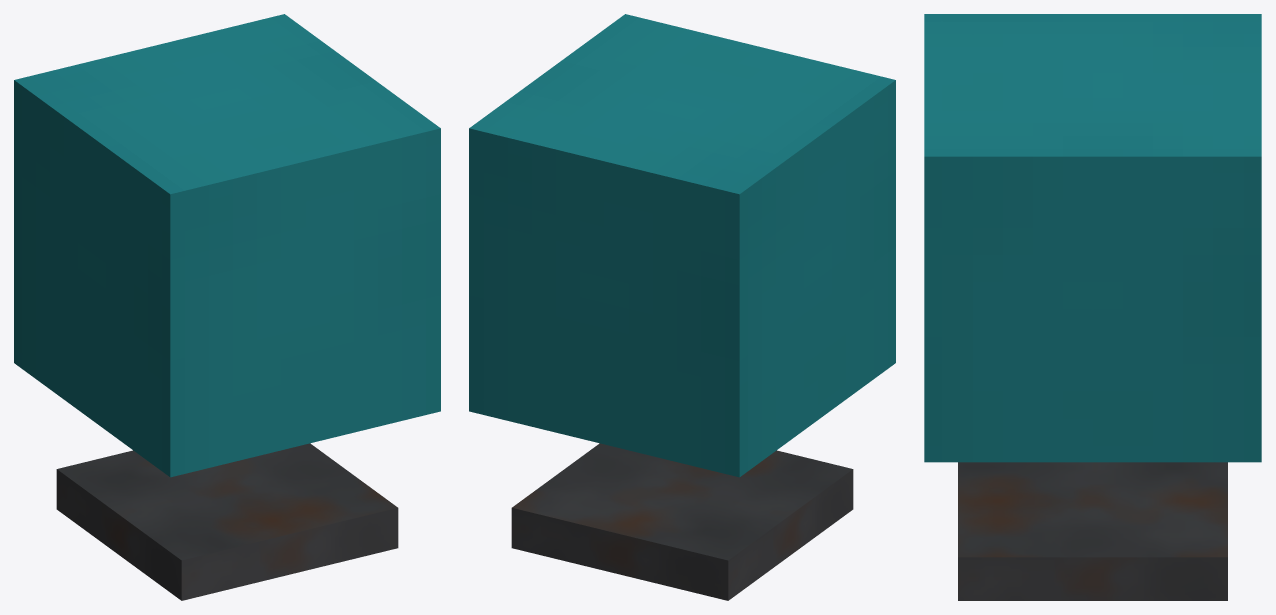
The model's file is demo_cube_teal.glb.
3 renders of one model, left to right at view 1: azimuth 30°, elevation 25°; view 2: azimuth 150°, elevation 25°; view 3: azimuth 270°, elevation 25°, orthographic. The views are drawn at different scales.
Visible parts, largest first — view 1: demo_cube_teal_cube, demo_cube_teal; view 2: demo_cube_teal_cube, demo_cube_teal; view 3: demo_cube_teal_cube, demo_cube_teal.
Part boxes in pixels (x1,y1,x2,y2): demo_cube_teal_cube: (14, 14, 440, 477); demo_cube_teal: (56, 443, 398, 600); demo_cube_teal_cube: (469, 14, 895, 477); demo_cube_teal: (511, 443, 853, 600); demo_cube_teal_cube: (924, 14, 1261, 462); demo_cube_teal: (958, 462, 1227, 600).
Size of the model in its own units: 0.7 by 1.05 by 0.7.
2 materials, 2 textured.
